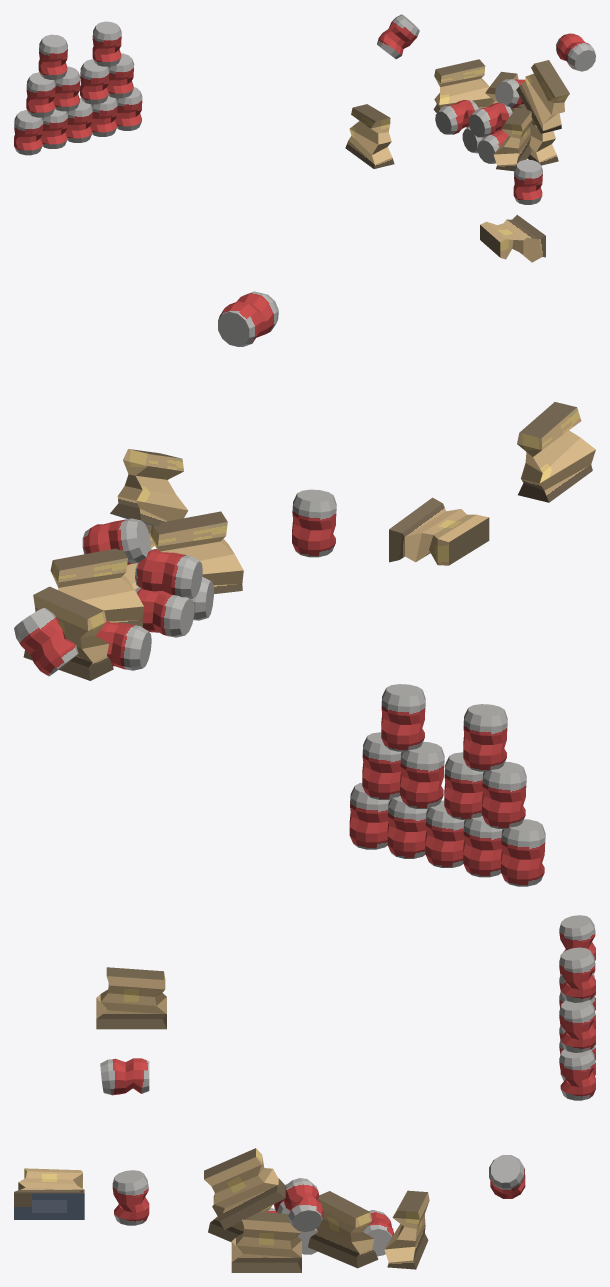
The model's file is trash1.gltf.
3 renders of one model, top to bottom at view 1: azimuth 30°, elevation 25°; view 2: azimuth 150°, elevation 25°; view 3: azimuth 270°, elevation 25°, orthographic. The views are drawn at different scales.
Parts seen in each view (by area): view 1: cylinder-col (×17), cuboid-col (×5), cuboid (×2), cylinder (×2); view 2: cylinder-col (×16), cuboid-col (×4), cuboid (×2), cylinder (×2); view 3: cuboid-col (×5), cylinder-col (×7), cuboid (×2), cylinder (×2).
Part boxes in pixels (bbox=[...]): cylinder-col (×17): bbox=[14, 14, 525, 163]; cuboid-col (×5): bbox=[433, 59, 569, 171]; cuboid (×2): bbox=[345, 104, 545, 262]; cylinder (×2): bbox=[513, 33, 595, 204]; cylinder-col (×16): bbox=[14, 518, 545, 886]; cuboid-col (×4): bbox=[23, 449, 243, 680]; cuboid (×2): bbox=[389, 402, 595, 565]; cylinder (×2): bbox=[218, 291, 336, 557]; cuboid-col (×5): bbox=[204, 1148, 429, 1272]; cylinder-col (×7): bbox=[283, 915, 595, 1256]; cuboid (×2): bbox=[14, 967, 166, 1219]; cylinder (×2): bbox=[100, 1058, 149, 1225].
Size of the model in its own units: 0.6235 by 0.2438 by 0.6188.
1 material, 1 textured.
